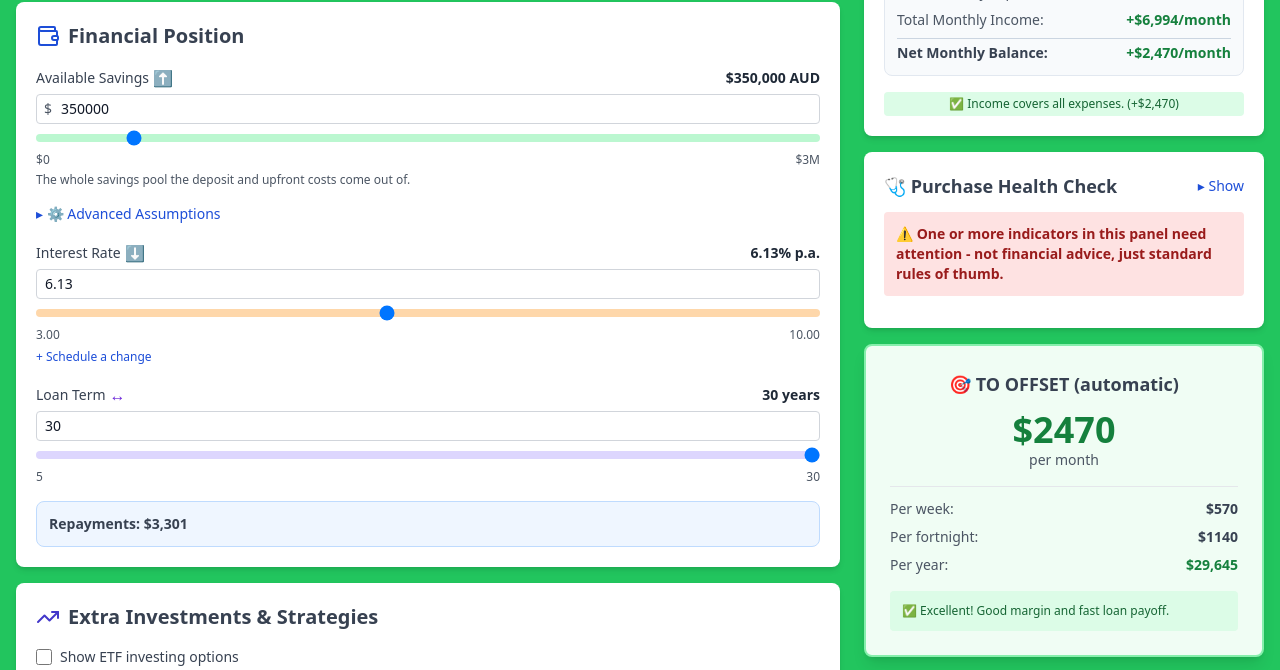
Scenario: Scheduled interest-rate change validation (TODO-169) › still accepts an in-range scheduled rate change
The width and height of the screenshot is (1280, 670).
(page scrolled)
Click the button "+ Schedule a change" at coordinates (94, 357), box [36,349,152,365]
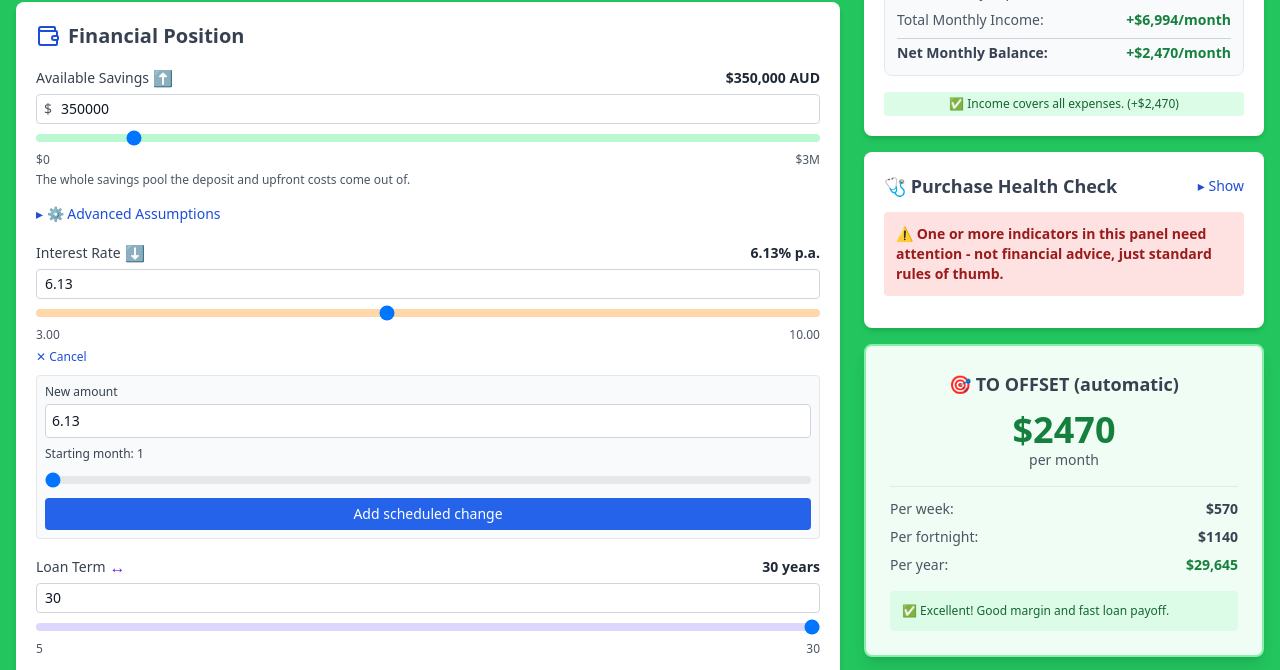
Replace the text in the 3rd number field with "5" at coordinates (428, 421), box [45,404,811,438]
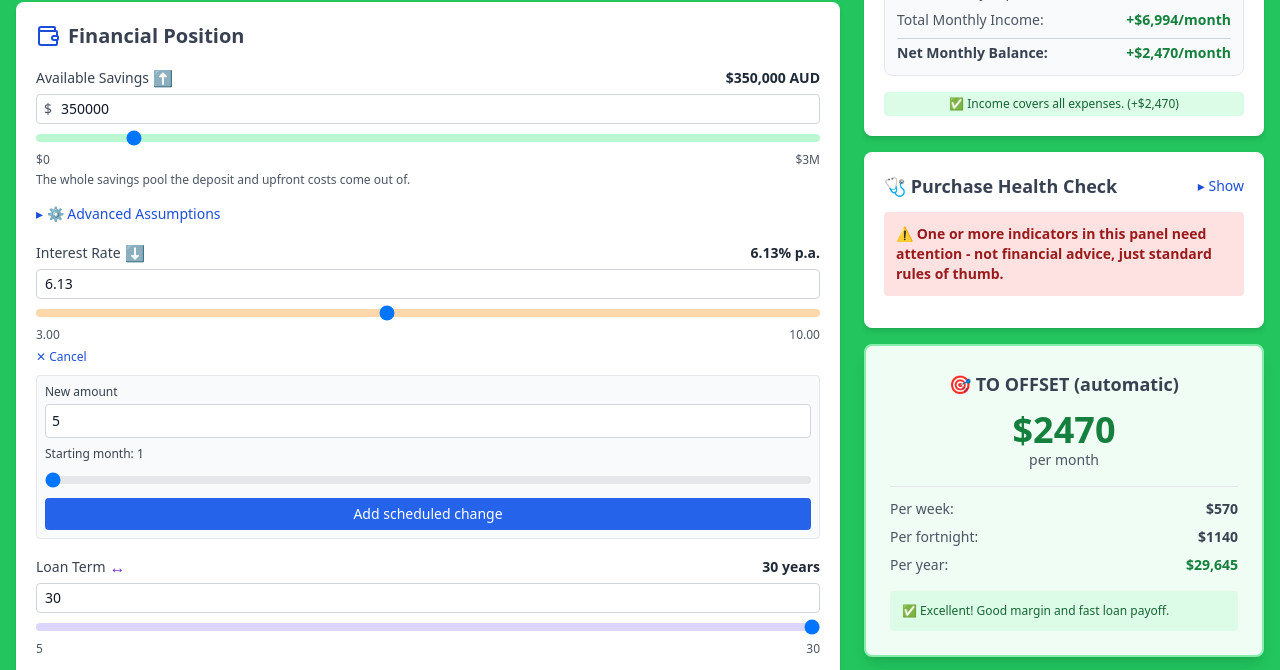
Set the 3rd slider to "25" at coordinates (103, 480), box [45,476,811,484]
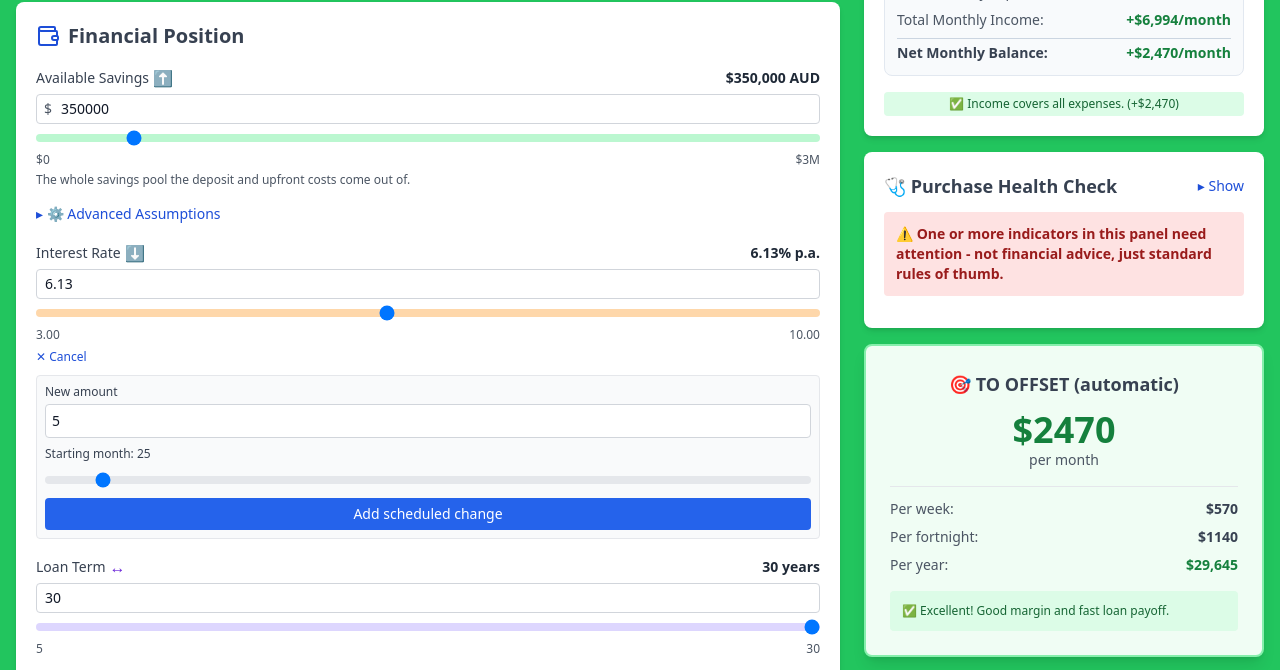
Click the button "Add scheduled change" at coordinates (428, 514), box [45,498,811,530]
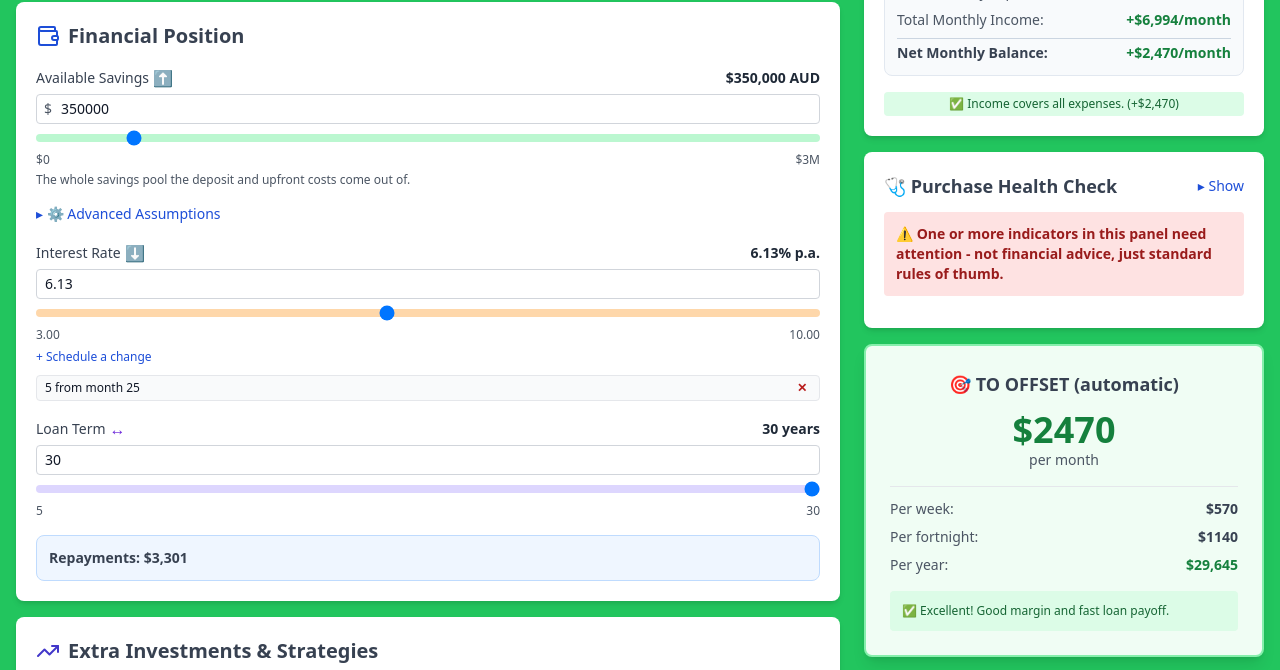
Expected: the text "5 from month 25" is shown, [45,380,140,396]
